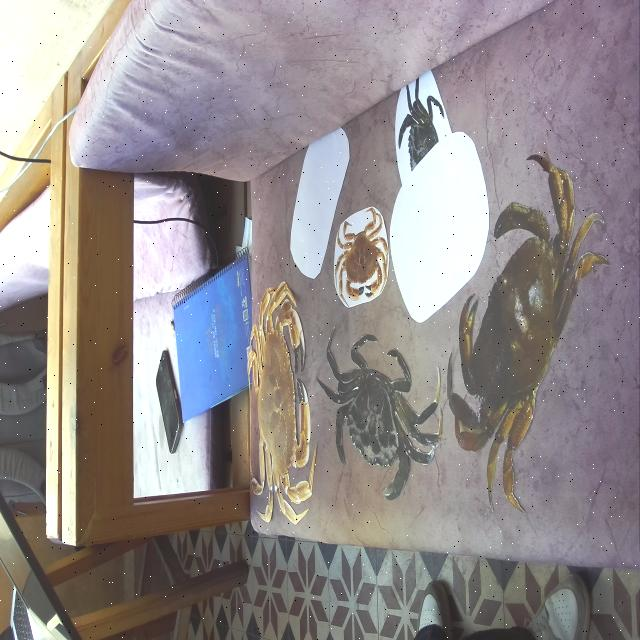European_Green_Crab: (302, 312, 452, 521), (384, 52, 464, 227)
